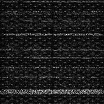lte: (1, 88, 104, 95), (1, 32, 104, 36)
